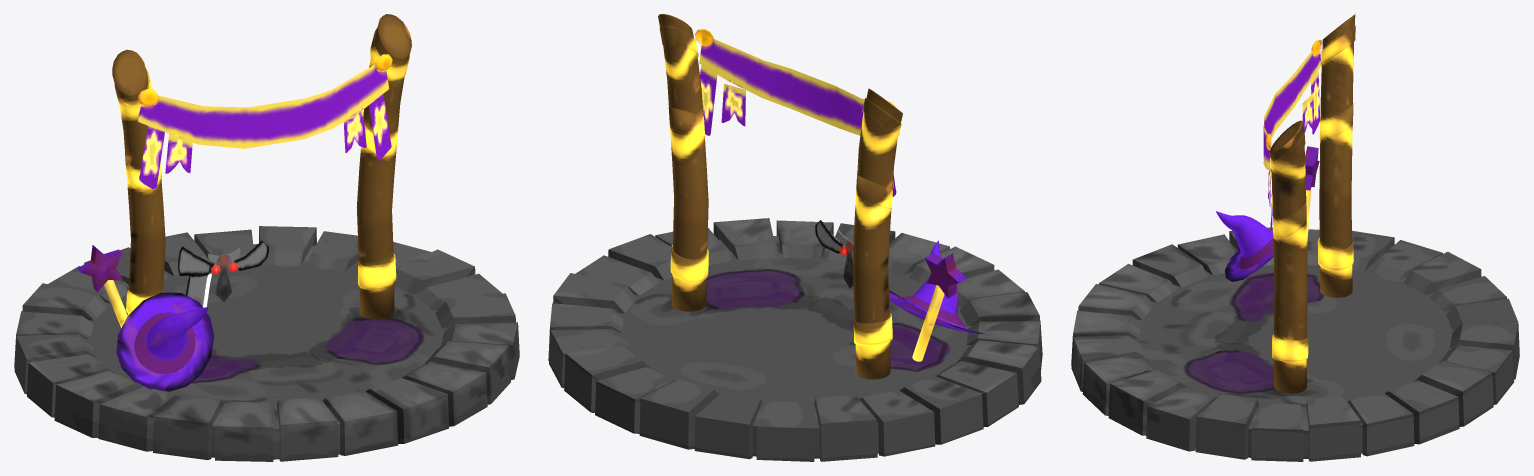
File: Empty_Group_Photo_Booth_Lvl_02.fbx
The picture shows the model from 3 angles, left to right: view 1: azimuth 30°, elevation 25°; view 2: azimuth 150°, elevation 25°; view 3: azimuth 270°, elevation 25°; orthographic projection. The views are drawn at different scales.
Parts seen in each view (by area): view 1: Main_Platform_Photo_Booth_Lvl02, Pillers_Photo_Booth_Lvl02, Main_WizardHat_Photo_Booth_Lvl02, Ghost_Male_Photo_Booth_Lvl02, Main_Wizard_Staff_Photo_Booth_Lvl02.001; view 2: Main_Platform_Photo_Booth_Lvl02, Pillers_Photo_Booth_Lvl02, Main_Wizard_Staff_Photo_Booth_Lvl02.001, Main_WizardHat_Photo_Booth_Lvl02, Ghost_Male_Photo_Booth_Lvl02; view 3: Main_Platform_Photo_Booth_Lvl02, Pillers_Photo_Booth_Lvl02, Main_WizardHat_Photo_Booth_Lvl02, Main_Wizard_Staff_Photo_Booth_Lvl02.001.
Part boxes in pixels (x1=…): Main_Platform_Photo_Booth_Lvl02: x1=14, y1=226, x2=519, y2=461; Pillers_Photo_Booth_Lvl02: x1=112, y1=14, x2=411, y2=319; Main_WizardHat_Photo_Booth_Lvl02: x1=116, y1=292, x2=214, y2=391; Ghost_Male_Photo_Booth_Lvl02: x1=178, y1=241, x2=268, y2=307; Main_Wizard_Staff_Photo_Booth_Lvl02.001: x1=77, y1=245, x2=127, y2=327; Main_Platform_Photo_Booth_Lvl02: x1=548, y1=218, x2=1042, y2=461; Pillers_Photo_Booth_Lvl02: x1=658, y1=14, x2=902, y2=379; Main_Wizard_Staff_Photo_Booth_Lvl02.001: x1=912, y1=253, x2=966, y2=361; Main_WizardHat_Photo_Booth_Lvl02: x1=889, y1=240, x2=986, y2=334; Ghost_Male_Photo_Booth_Lvl02: x1=815, y1=220, x2=853, y2=288; Main_Platform_Photo_Booth_Lvl02: x1=1071, y1=227, x2=1519, y2=461; Pillers_Photo_Booth_Lvl02: x1=1263, y1=14, x2=1355, y2=393; Main_WizardHat_Photo_Booth_Lvl02: x1=1216, y1=211, x2=1273, y2=281; Main_Wizard_Staff_Photo_Booth_Lvl02.001: x1=1305, y1=146, x2=1319, y2=245.
Bounding box in the file's own units: 1.52 × 1.07 × 1.44.
Materials: 2 (2 with a texture image).
